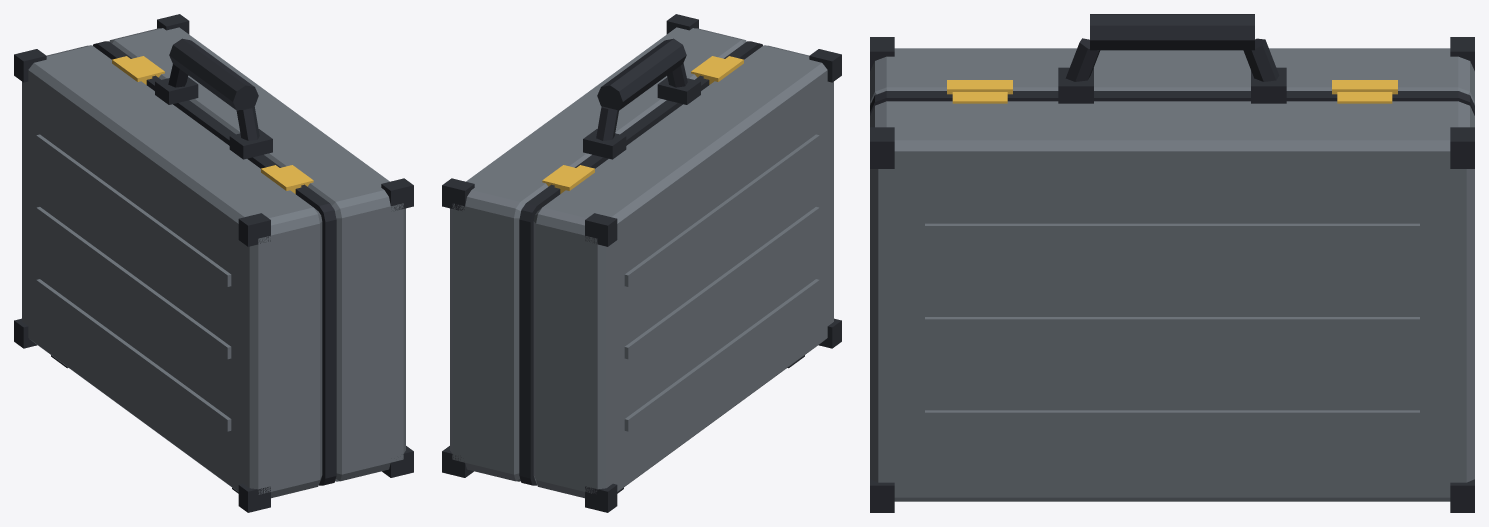
File: toolbox.glb
The picture shows the model from 3 angles, left to right: view 1: azimuth 30°, elevation 25°; view 2: azimuth 150°, elevation 25°; view 3: azimuth 270°, elevation 25°; orthographic projection. The views are drawn at different scales.
Parts seen in each view (by area): view 1: toolbox_mesh, LID; view 2: toolbox_mesh, LID; view 3: LID, toolbox_mesh.
Part boxes in pixels (left/top/right/bottom): toolbox_mesh: left=14, top=38, right=330, bottom=512; LID: left=100, top=14, right=413, bottom=483; toolbox_mesh: left=525, top=38, right=841, bottom=512; LID: left=442, top=14, right=755, bottom=483; LID: left=870, top=92, right=1474, bottom=512; toolbox_mesh: left=870, top=14, right=1474, bottom=108.
Size of the model in its own units: 0.18 by 0.3658 by 0.44.
Materials: 1 (1 with a texture image).
